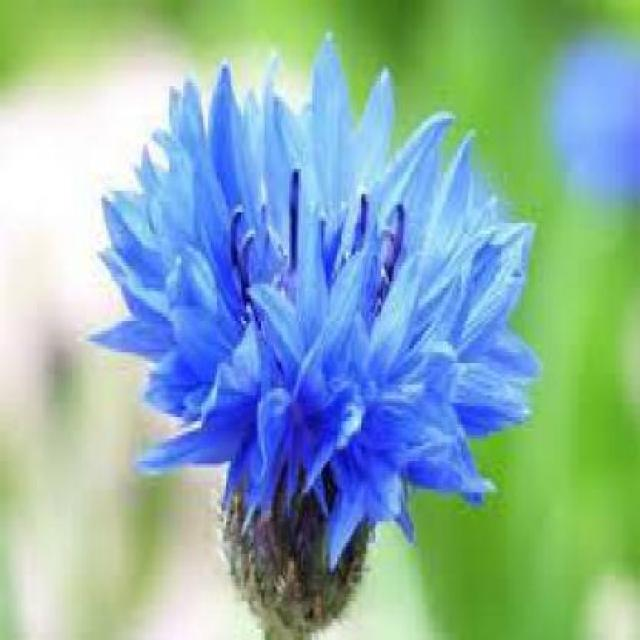flower: (91, 52, 542, 577)
